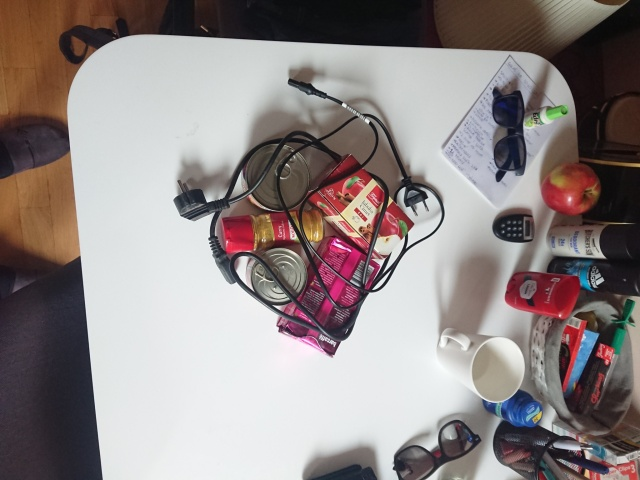Barcaffe Classic Original 225g: (274, 233, 383, 360)
Franck Apple Cinnamon Tea 60g: (302, 151, 418, 262)
Giana Tuna Salad Mexico 185g: (239, 141, 313, 214)
Kotanyi Curry Spices Mix 70g: (218, 205, 327, 256)
Podravka Luncheon Meat 150g: (243, 244, 310, 308)
